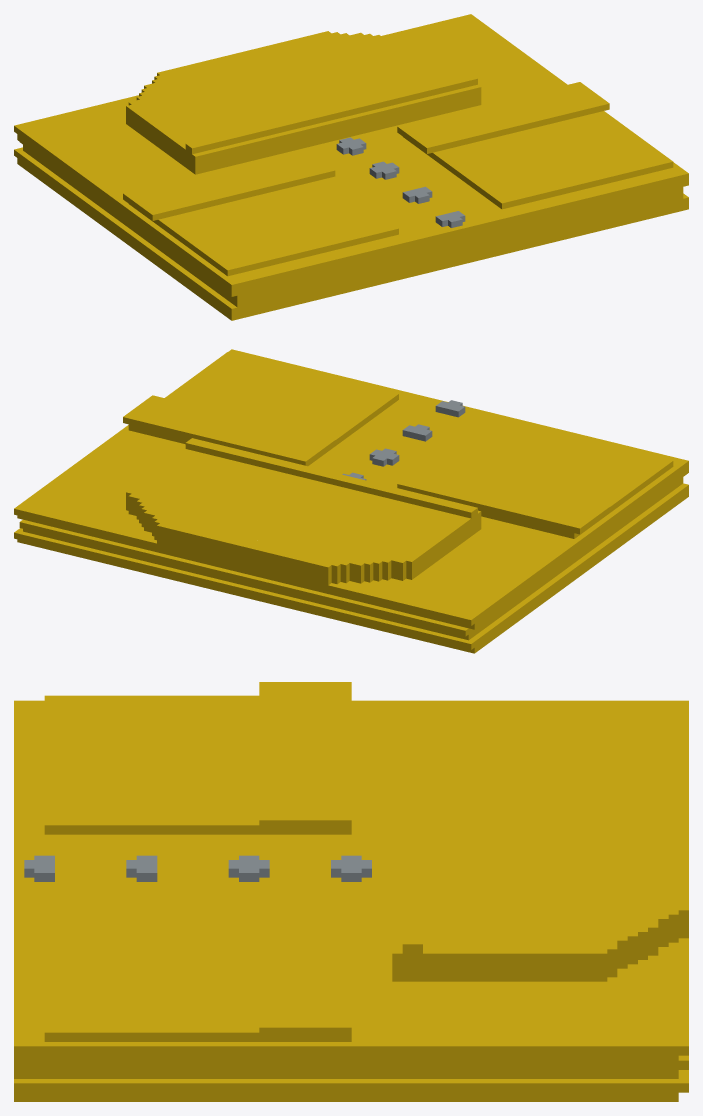
File: coat_rain.glb
3 views of the same model, one above another, from view 1: azimuth 30°, elevation 25°; view 2: azimuth 150°, elevation 25°; view 3: azimuth 270°, elevation 25° (orthographic). The views are drawn at different scales.
Parts seen in each view (by area): view 1: coat_rain:compound; view 2: coat_rain:compound; view 3: coat_rain:compound.
Boxes of the visible parts, x1=… form: coat_rain:compound: x1=14, y1=14, x2=688, y2=320; coat_rain:compound: x1=14, y1=349, x2=688, y2=653; coat_rain:compound: x1=14, y1=682, x2=688, y2=1101.
Bounding box in the file's own units: 0.32 × 0.04 × 0.264.
